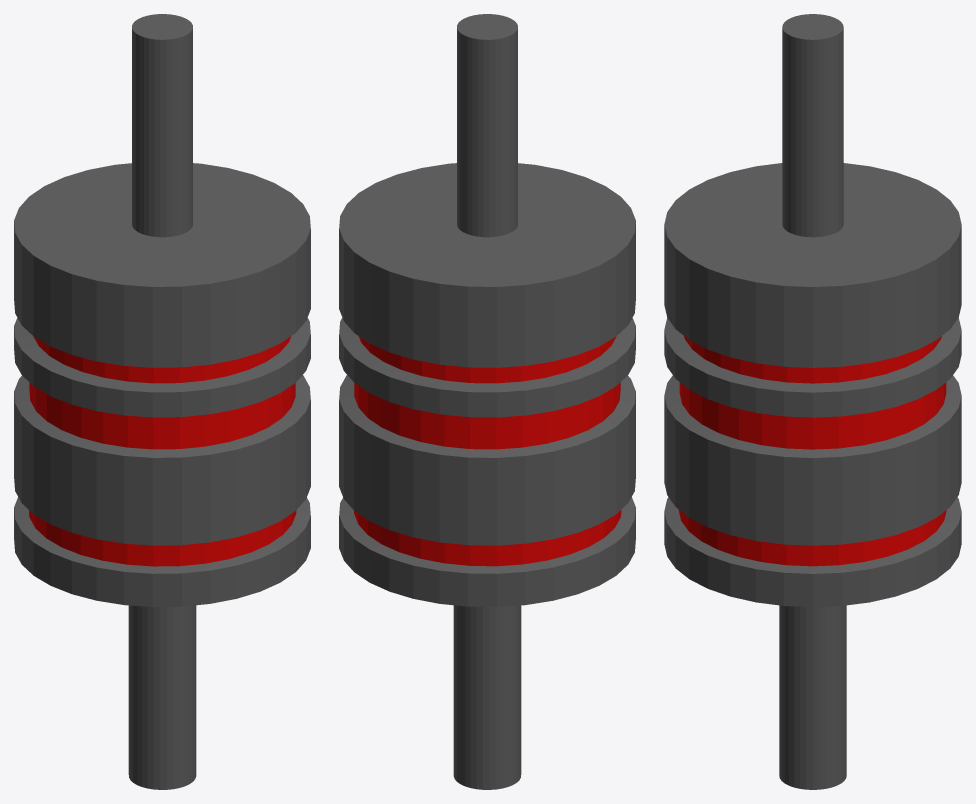
The model's file is fuse 1.fbx.
3 renders of one model, left to right at view 1: azimuth 30°, elevation 25°; view 2: azimuth 150°, elevation 25°; view 3: azimuth 270°, elevation 25°, orthographic.
Visible parts, largest first — view 1: Cylinder; view 2: Cylinder; view 3: Cylinder.
Boxes of the visible parts, x1,y1,x2,y2 form: Cylinder: (14,14,310,789); Cylinder: (339,14,635,789); Cylinder: (664,14,961,789).
Size of the model in its own units: 83.03 by 231 by 83.03.
